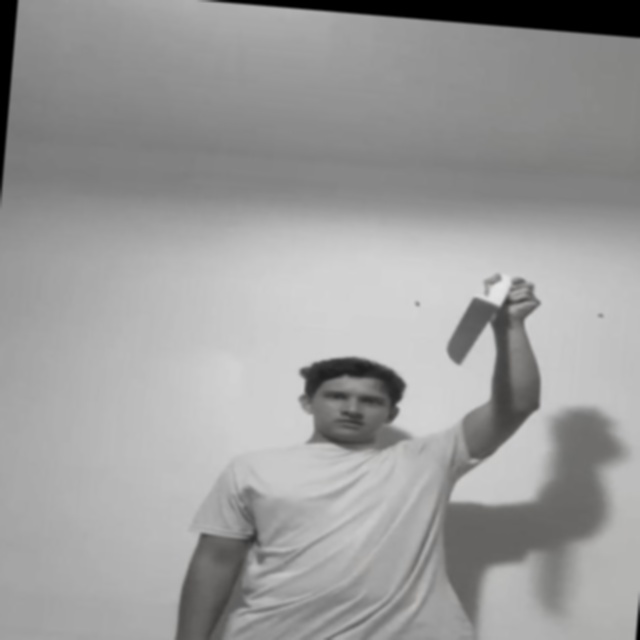Sharp-Object: (440, 295, 495, 368)
